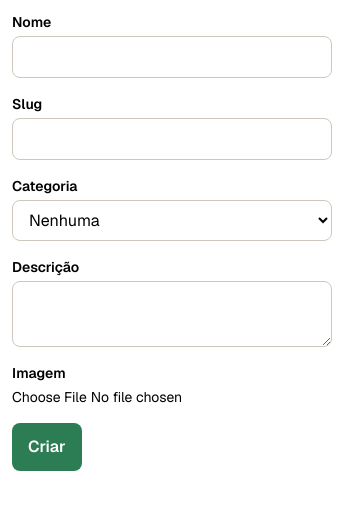
Scenario: CreateProduct › erro de negócio (409, slug em conflito): mostra a mensagem da API, sem navegar
Type "Fone Bluetooth" into the field labelled "Nome" at (172, 57), box [12, 36, 332, 78]
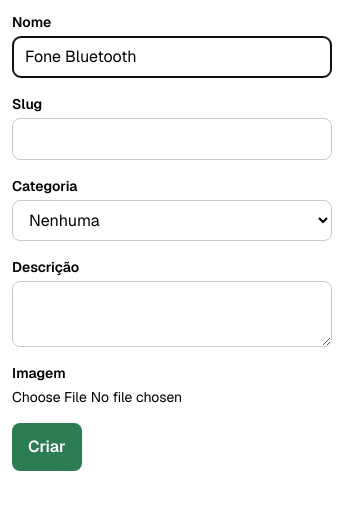
Type "fone-bluetooth" into the field labelled "Slug" at (172, 139), box [12, 118, 332, 160]
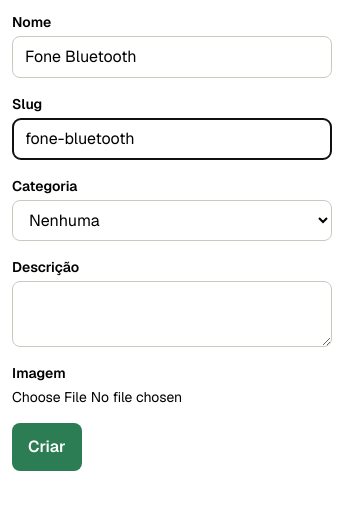
Click the button "Criar" at (47, 447), box [12, 423, 82, 471]
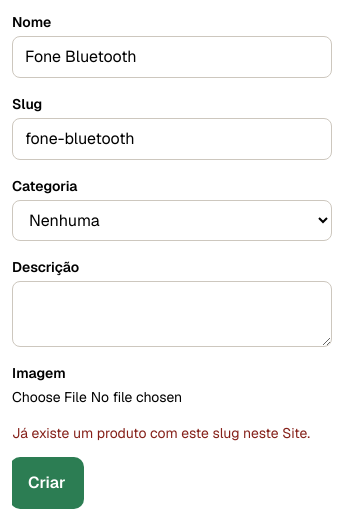
Expected: the text "Já existe um produto com este slug neste Site." is shown, [12, 423, 332, 443]
